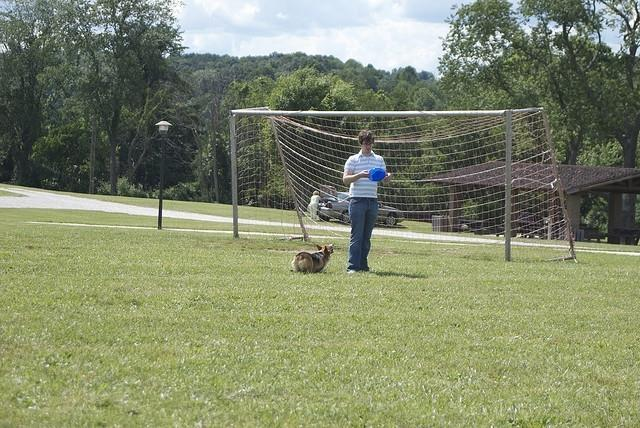car: (307, 184, 405, 226), (580, 227, 608, 241)
